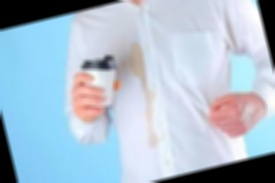coffee: (124, 40, 168, 150)
